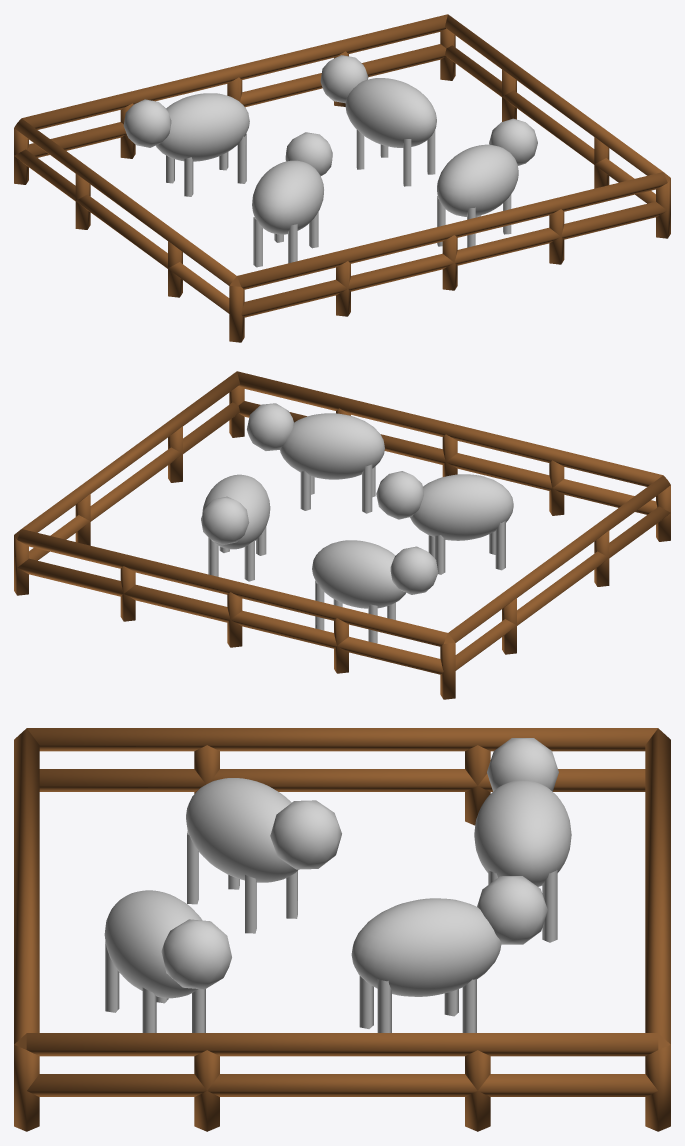
File: BFarmSheep.obj
3 views of the same model, one above another, from view 1: azimuth 30°, elevation 25°; view 2: azimuth 150°, elevation 25°; view 3: azimuth 270°, elevation 25° (orthographic). The views are drawn at different scales.
Parts seen in each view (by area): view 1: AppleFarm; view 2: AppleFarm; view 3: AppleFarm.
Part boxes in pixels (x1,y1,x2,y2): AppleFarm: [14, 14, 670, 342]; AppleFarm: [14, 371, 670, 699]; AppleFarm: [14, 728, 670, 1131].
Bounding box in the file's own units: 8.28 × 1.7 × 7.28.
